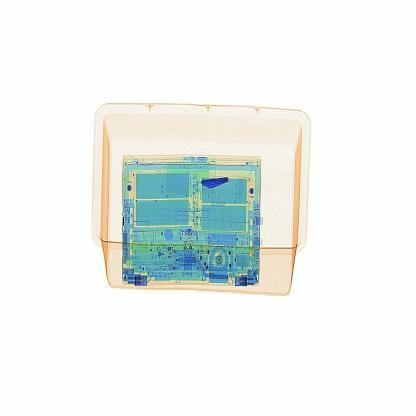knife: (196, 164, 240, 209)
